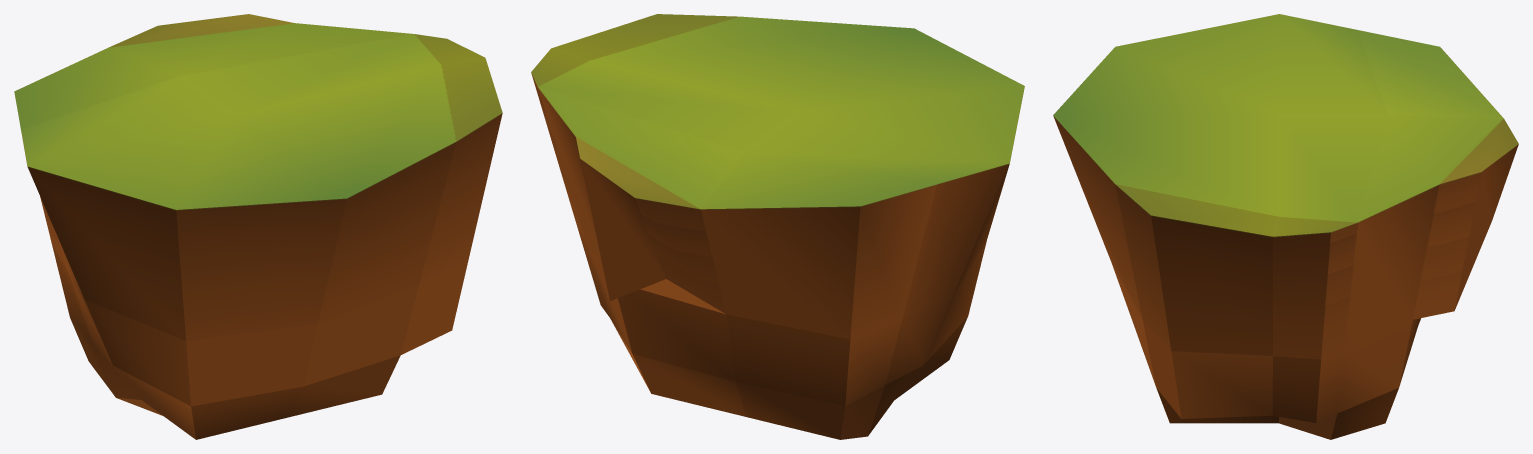
File: Ilha_Direita.fbx
3 renders of one model, left to right at view 1: azimuth 30°, elevation 25°; view 2: azimuth 150°, elevation 25°; view 3: azimuth 270°, elevation 25°, orthographic.
Parts seen in each view (by area): view 1: Ilha-Diretita; view 2: Ilha-Diretita; view 3: Ilha-Diretita.
Boxes of the visible parts, x1,y1,x2,y2 form: Ilha-Diretita: (14, 14, 502, 439); Ilha-Diretita: (531, 14, 1024, 439); Ilha-Diretita: (1053, 14, 1518, 439).
Bounding box in the file's own units: 2447 × 1522 × 2163.
